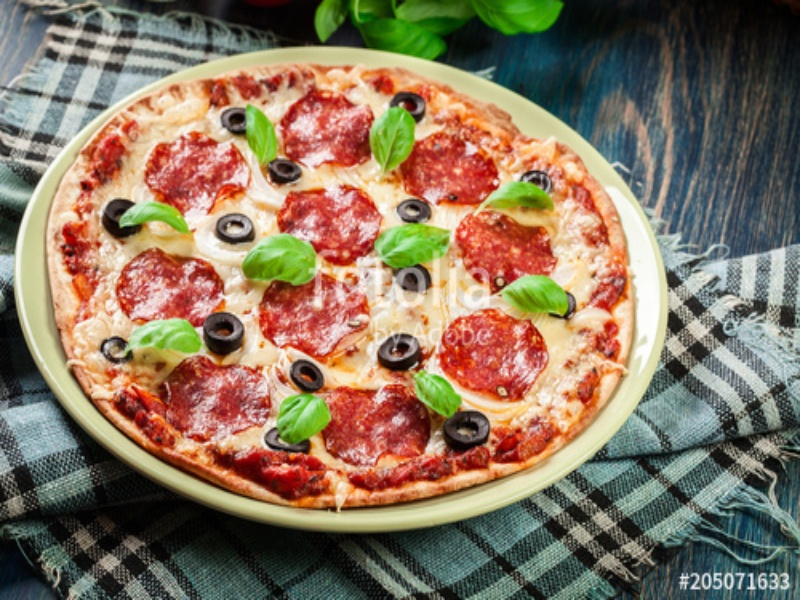olive noir: (439, 410, 494, 450), (197, 312, 253, 350), (206, 213, 261, 247), (375, 334, 426, 368), (287, 359, 330, 398), (393, 196, 433, 227), (264, 154, 302, 185), (391, 87, 427, 118), (521, 171, 550, 196)
pepperonis: (442, 298, 549, 403), (158, 353, 276, 436), (124, 246, 234, 323), (143, 134, 256, 208), (320, 386, 436, 458), (278, 186, 386, 261), (403, 124, 500, 206)
